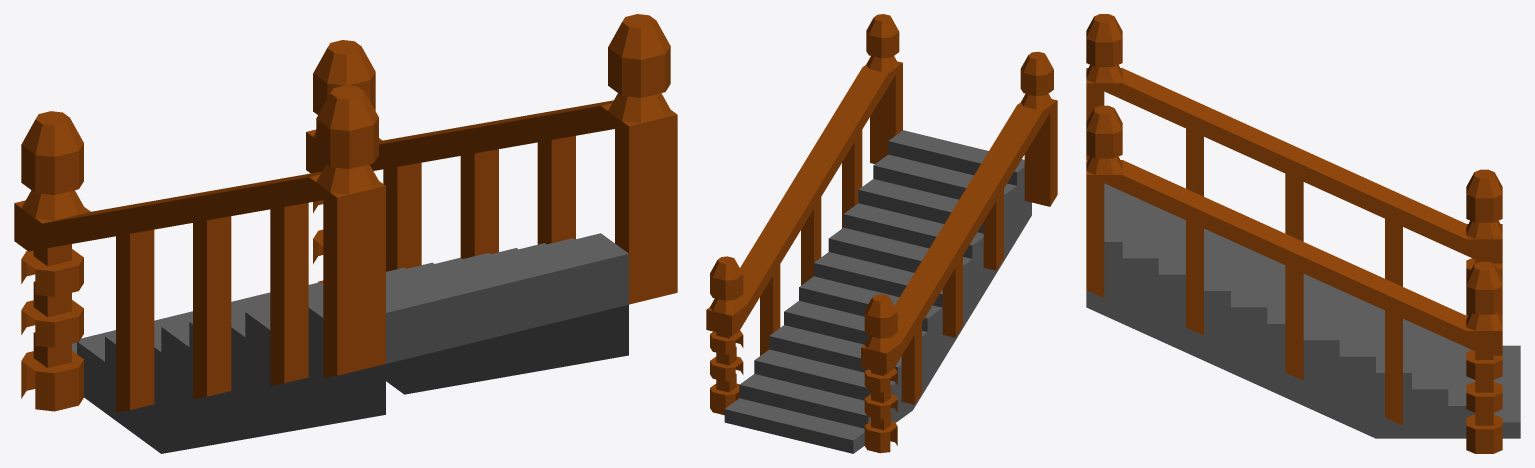
File: stonestairsdown.obj
The picture shows the model from 3 angles, left to right: view 1: azimuth 30°, elevation 25°; view 2: azimuth 150°, elevation 25°; view 3: azimuth 270°, elevation 25°; orthographic projection. The views are drawn at different scales.
Visible parts, largest first — view 1: stonestairsdown_back; view 2: stonestairsdown_back; view 3: stonestairsdown_back.
Boxes of the visible parts, x1,y1,x2,y2 form: stonestairsdown_back: (14, 14, 677, 453); stonestairsdown_back: (706, 14, 1057, 453); stonestairsdown_back: (1086, 14, 1520, 453).
Size of the model in its own units: 2.24 by 3.28 by 3.84.
